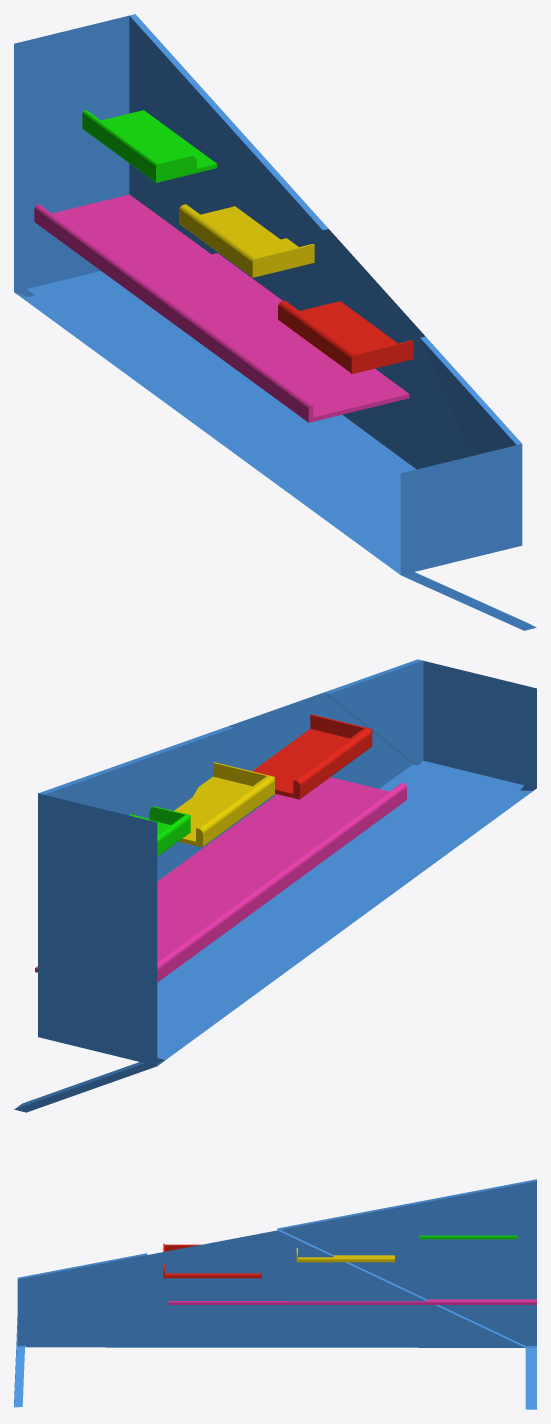
The model's file is cabinet1.glb.
3 views of the same model, one above another, from view 1: azimuth 30°, elevation 25°; view 2: azimuth 150°, elevation 25°; view 3: azimuth 270°, elevation 25° (orthographic). The views are drawn at different scales.
Visible parts, largest first — view 1: Cube.003; view 2: Cube.003; view 3: Cube.003.
Boxes of the visible parts, <box> form: Cube.003: <box>14,14,536,630</box>; Cube.003: <box>14,659,536,1112</box>; Cube.003: <box>14,1179,536,1409</box>.
Bounding box in the file's own units: 2.27 × 4.93 × 10.5.
